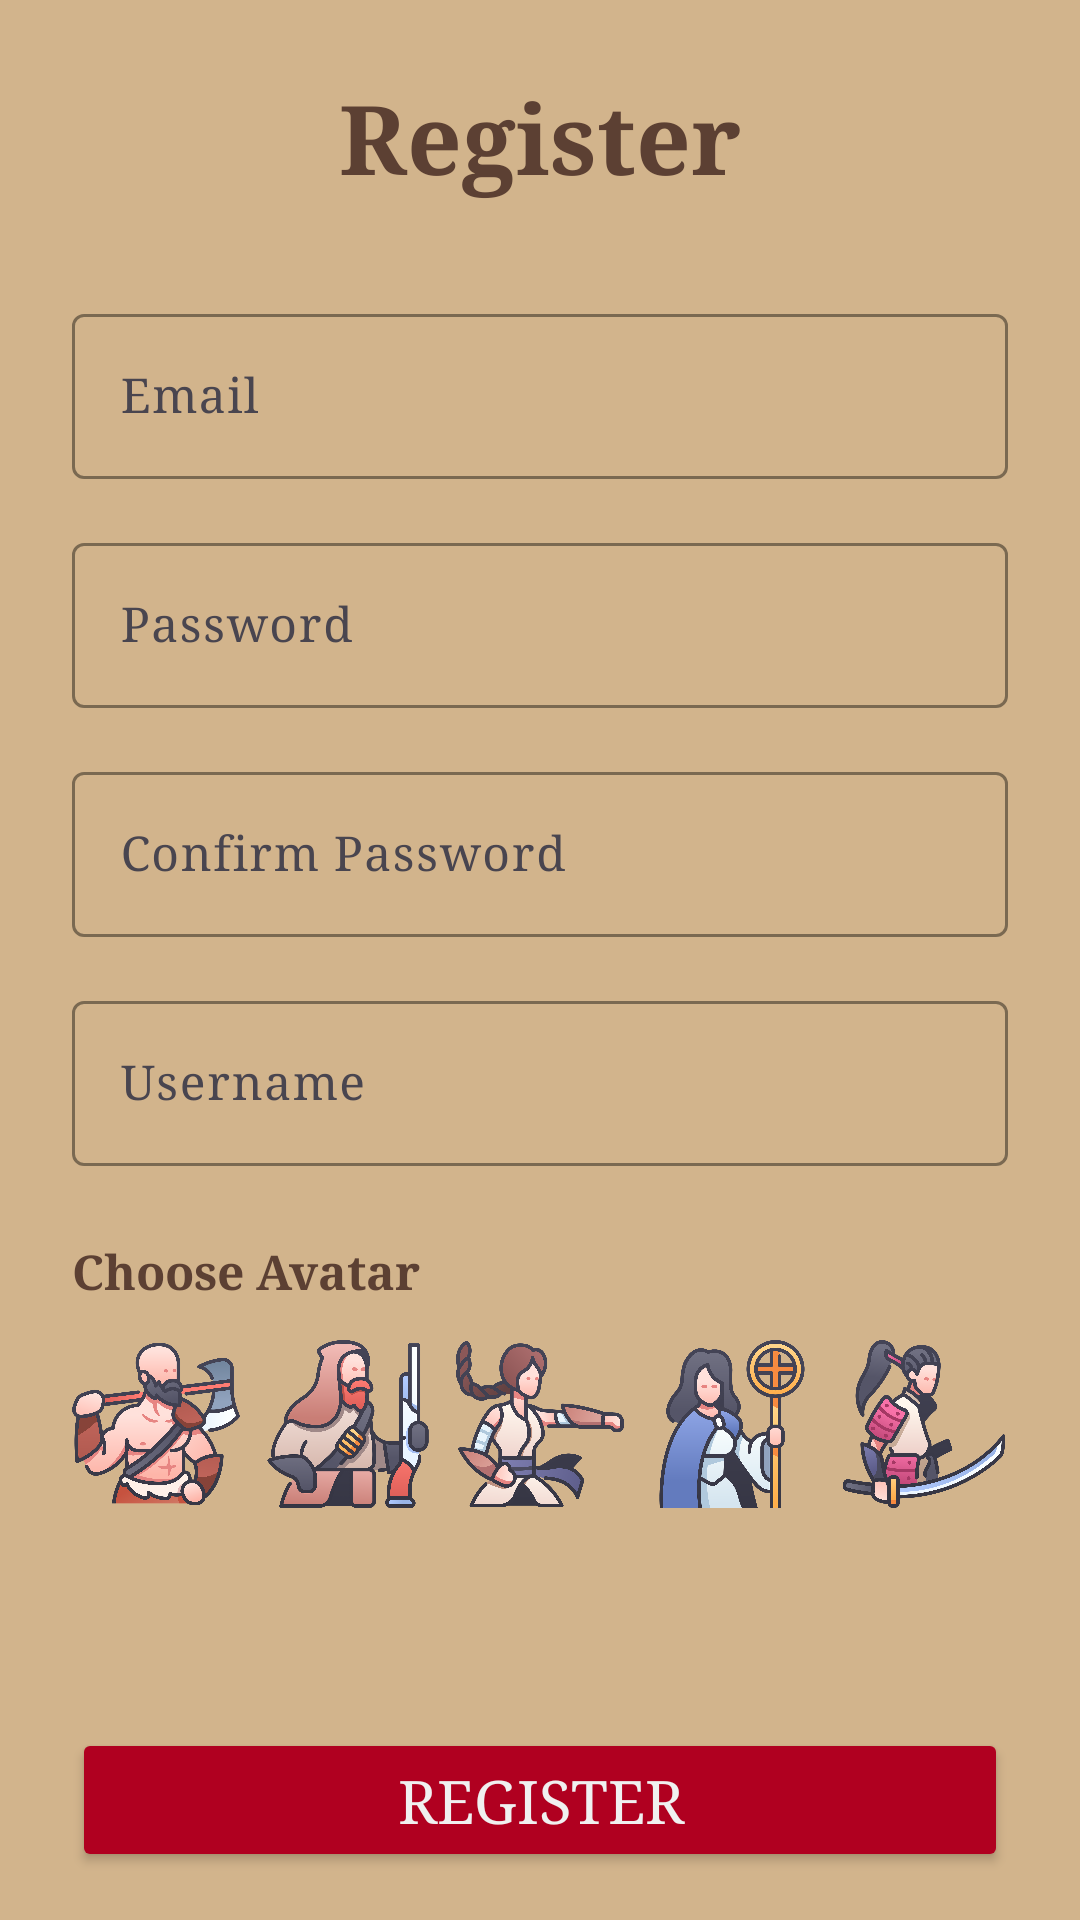

Named icons in this screenshot (1080*1920) and their bounding boxes, (x1, y1, x2, y2):
barbarian: (72, 1343, 240, 1505)
dwarf: (267, 1340, 429, 1508)
fighter: (456, 1341, 624, 1507)
healer: (659, 1340, 805, 1508)
ninja: (843, 1340, 1005, 1508)
